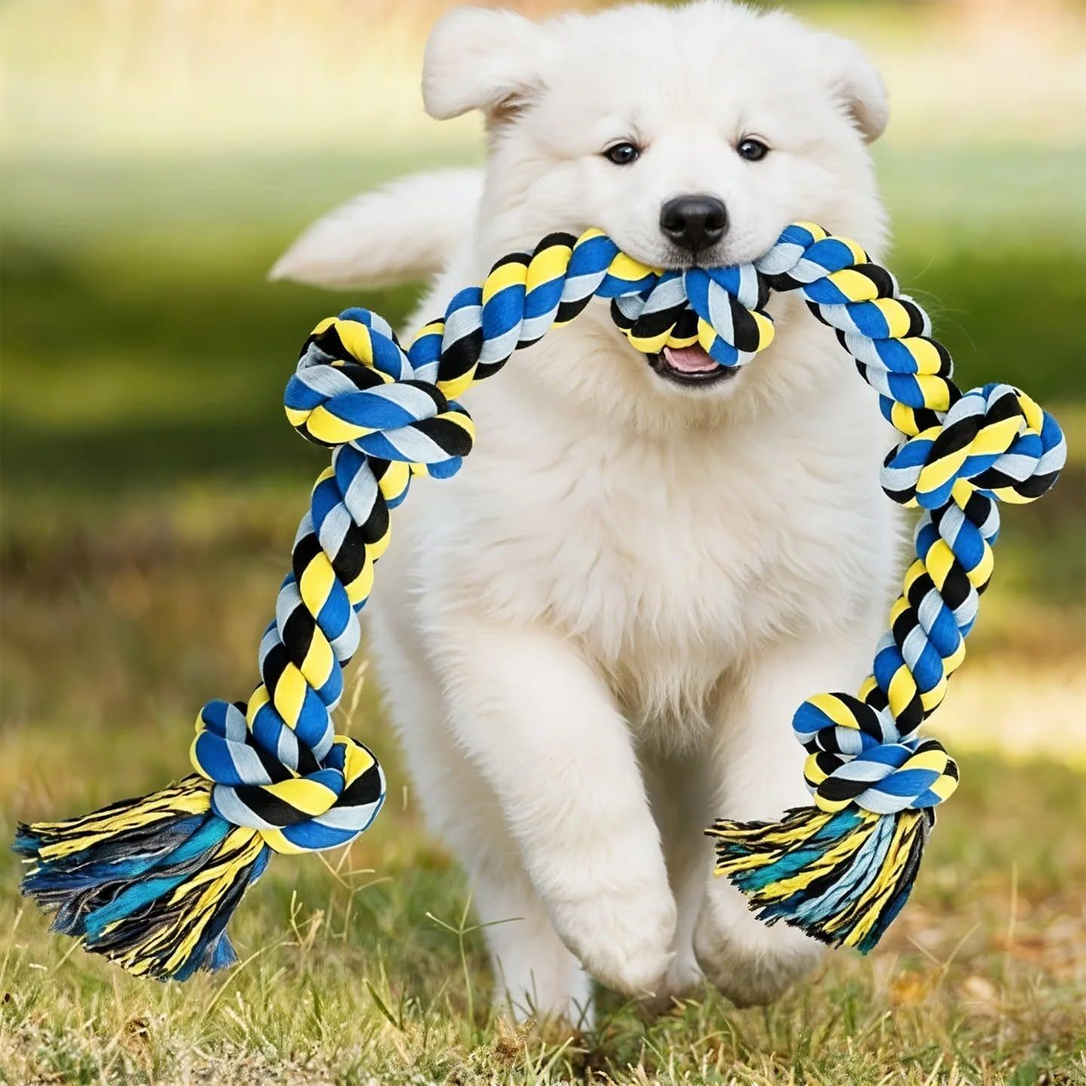puppy-dog: (263, 4, 911, 1045)
